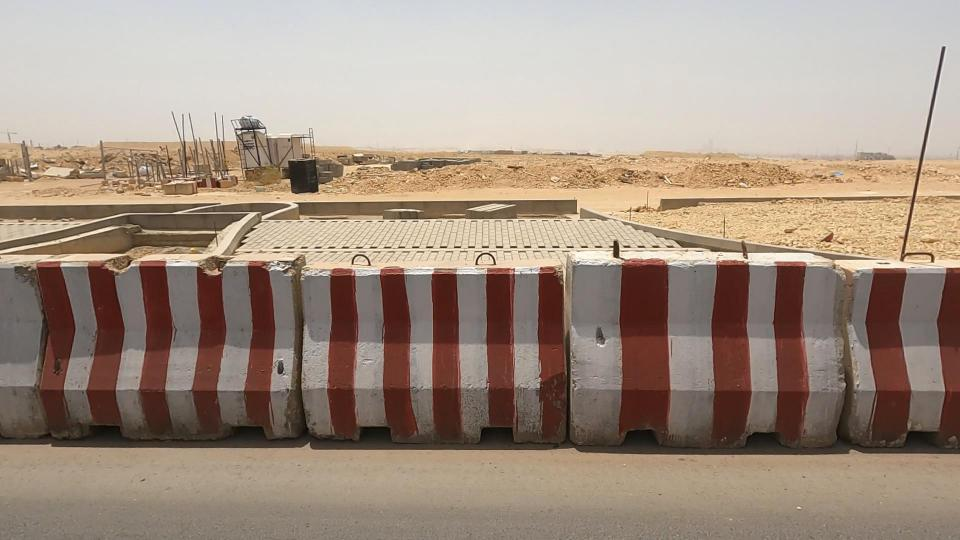CONSTRUCTION_ROAD: (290, 157, 960, 511), (0, 143, 561, 511)
GARBAGE: (811, 154, 862, 196), (523, 165, 583, 199), (126, 163, 161, 174)
